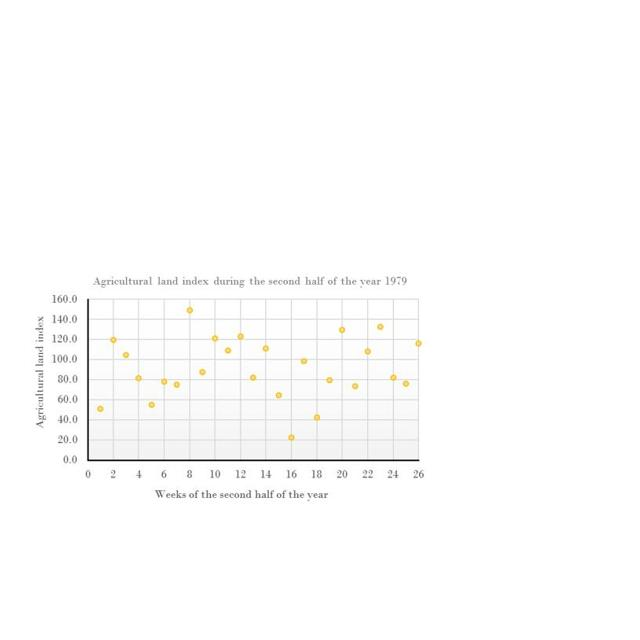Graph: (31, 265, 430, 505)
